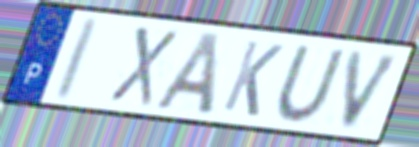A: (150, 30, 226, 118)
I: (49, 14, 104, 104)
K: (219, 37, 287, 120)
U: (274, 43, 349, 125)
V: (339, 48, 406, 132)
X: (105, 23, 180, 110)
